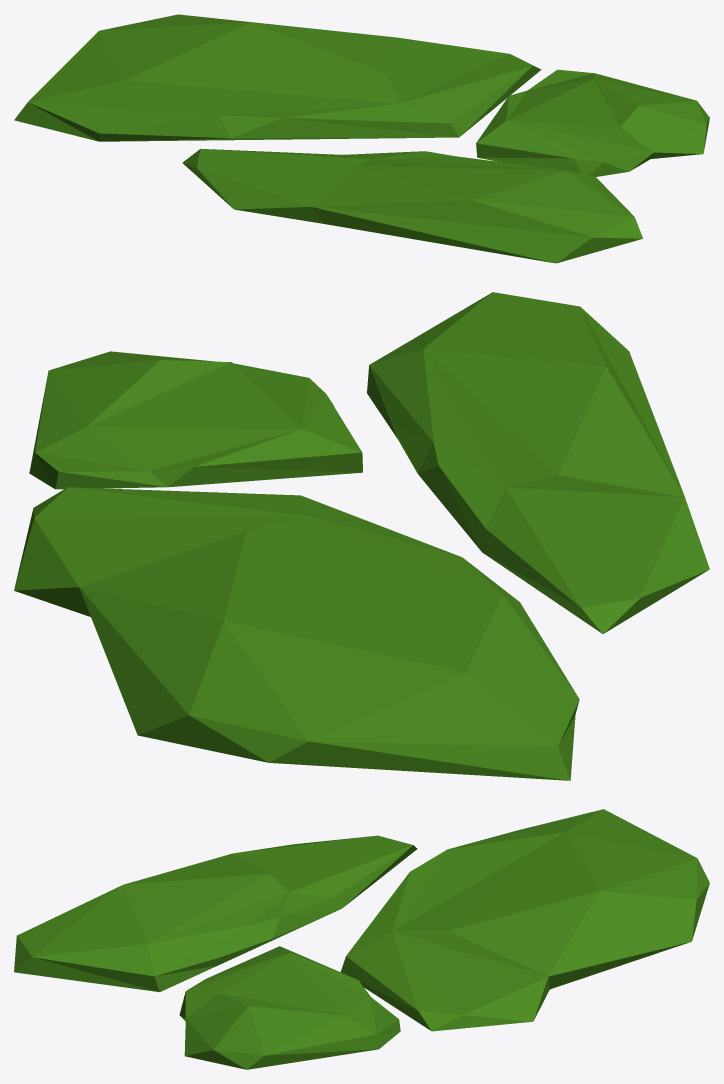
Rendered from Grass_03.FBX.
3 views of the same model, one above another, from view 1: azimuth 30°, elevation 25°; view 2: azimuth 150°, elevation 25°; view 3: azimuth 270°, elevation 25° (orthographic). The views are drawn at different scales.
Visible parts, largest first — view 1: GrassDuneSmall_011, GrassDuneSmall_010, GrassDuneSmall_012; view 2: GrassDuneSmall_011, GrassDuneSmall_010, GrassDuneSmall_012; view 3: GrassDuneSmall_011, GrassDuneSmall_010, GrassDuneSmall_012.
Boxes of the visible parts, bbox=[...] form: GrassDuneSmall_011: bbox=[14, 14, 541, 141]; GrassDuneSmall_010: bbox=[182, 148, 642, 263]; GrassDuneSmall_012: bbox=[476, 69, 709, 176]; GrassDuneSmall_011: bbox=[14, 487, 579, 780]; GrassDuneSmall_010: bbox=[367, 292, 709, 633]; GrassDuneSmall_012: bbox=[29, 351, 362, 489]; GrassDuneSmall_011: bbox=[340, 809, 709, 1031]; GrassDuneSmall_010: bbox=[14, 835, 417, 992]; GrassDuneSmall_012: bbox=[179, 946, 400, 1069].
Bounding box in the file's own units: 5.35 × 0.4519 × 6.16.
